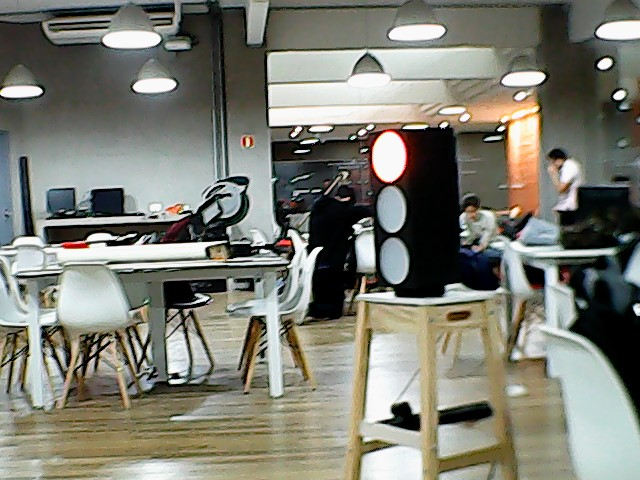vermelho: (363, 125, 463, 290)
